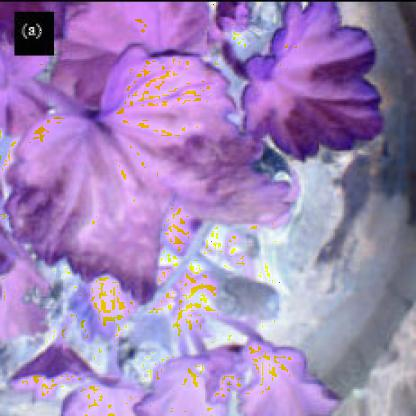tomato leaf mosaic virus: (11, 47, 304, 301), (231, 8, 387, 158)
